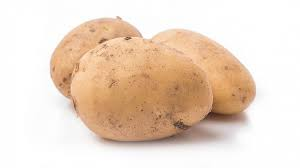potato: (74, 40, 218, 130)
